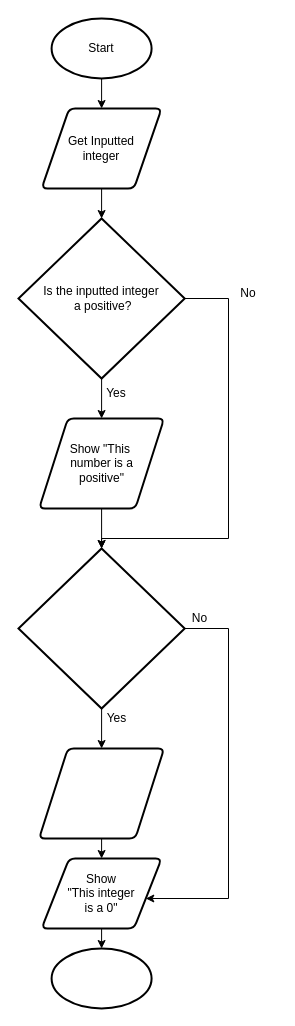
The diagram is 295 pixels wide and 1026 high, and some of its shapes have lost their labels. Each missing label, with the centre of its shape:
Is the inputted integer a negative?: point (101, 628)
Show "This number is a negative": point (101, 793)
Stop: point (101, 978)
